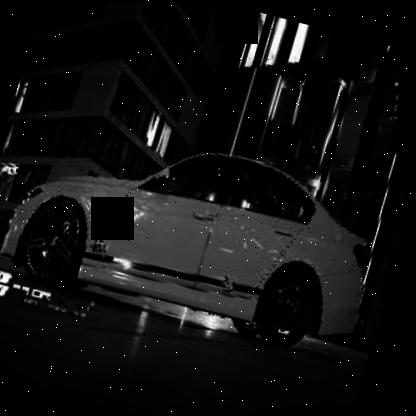not_emergency: (0, 91, 411, 401)
